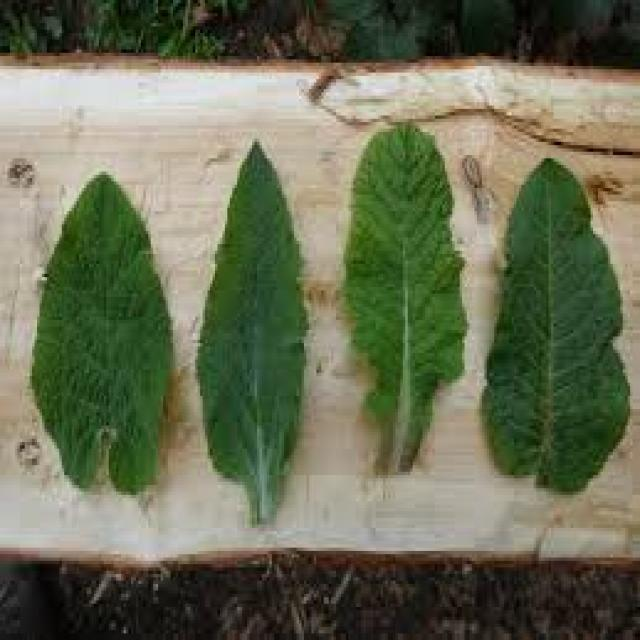organic waste: (29, 115, 640, 534)
